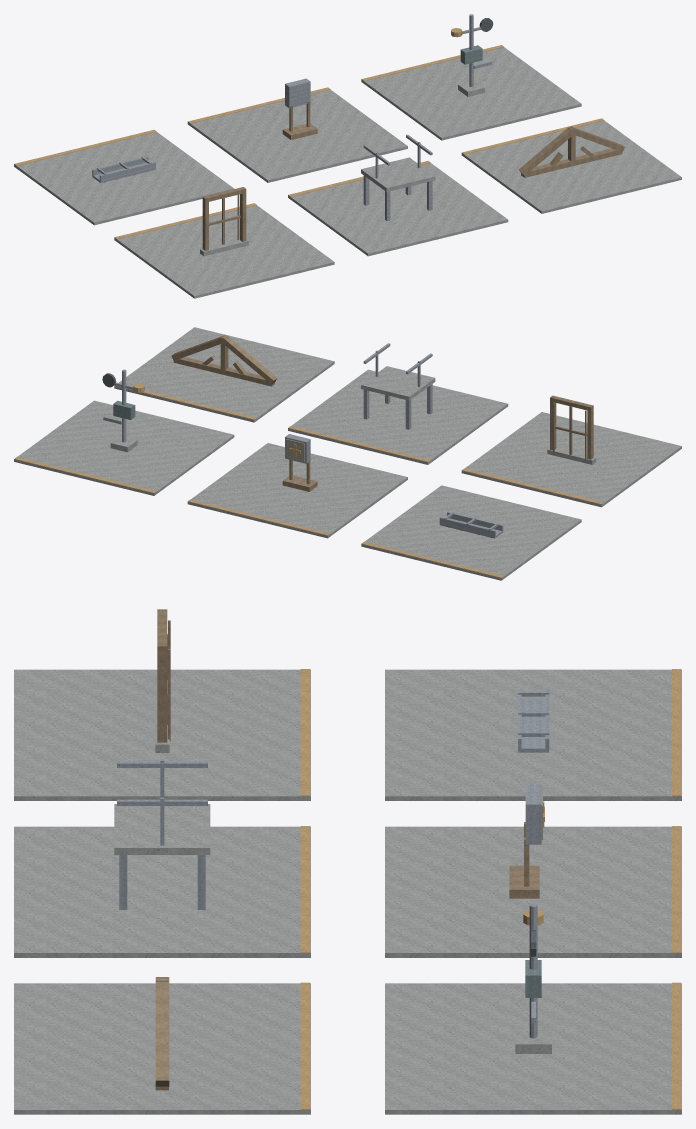
File: level_blockout_kit_wld_04_p02.glb
3 renders of one model, top to bottom at view 1: azimuth 30°, elevation 25°; view 2: azimuth 150°, elevation 25°; view 3: azimuth 270°, elevation 25°, orthographic. The views are drawn at different scales.
Visible parts, largest first — view 1: level_blockout_kit_wld_04_p02; view 2: level_blockout_kit_wld_04_p02; view 3: level_blockout_kit_wld_04_p02.
Part boxes in pixels (<box>): level_blockout_kit_wld_04_p02: <box>14,14,681,298</box>; level_blockout_kit_wld_04_p02: <box>14,327,681,580</box>; level_blockout_kit_wld_04_p02: <box>14,609,681,1114</box>.
Size of the model in its own units: 19.65 by 3.04 by 12.6.
7 materials, 7 textured.
